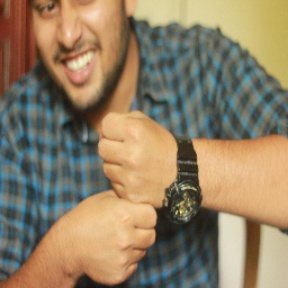G: (82, 107, 171, 285)
